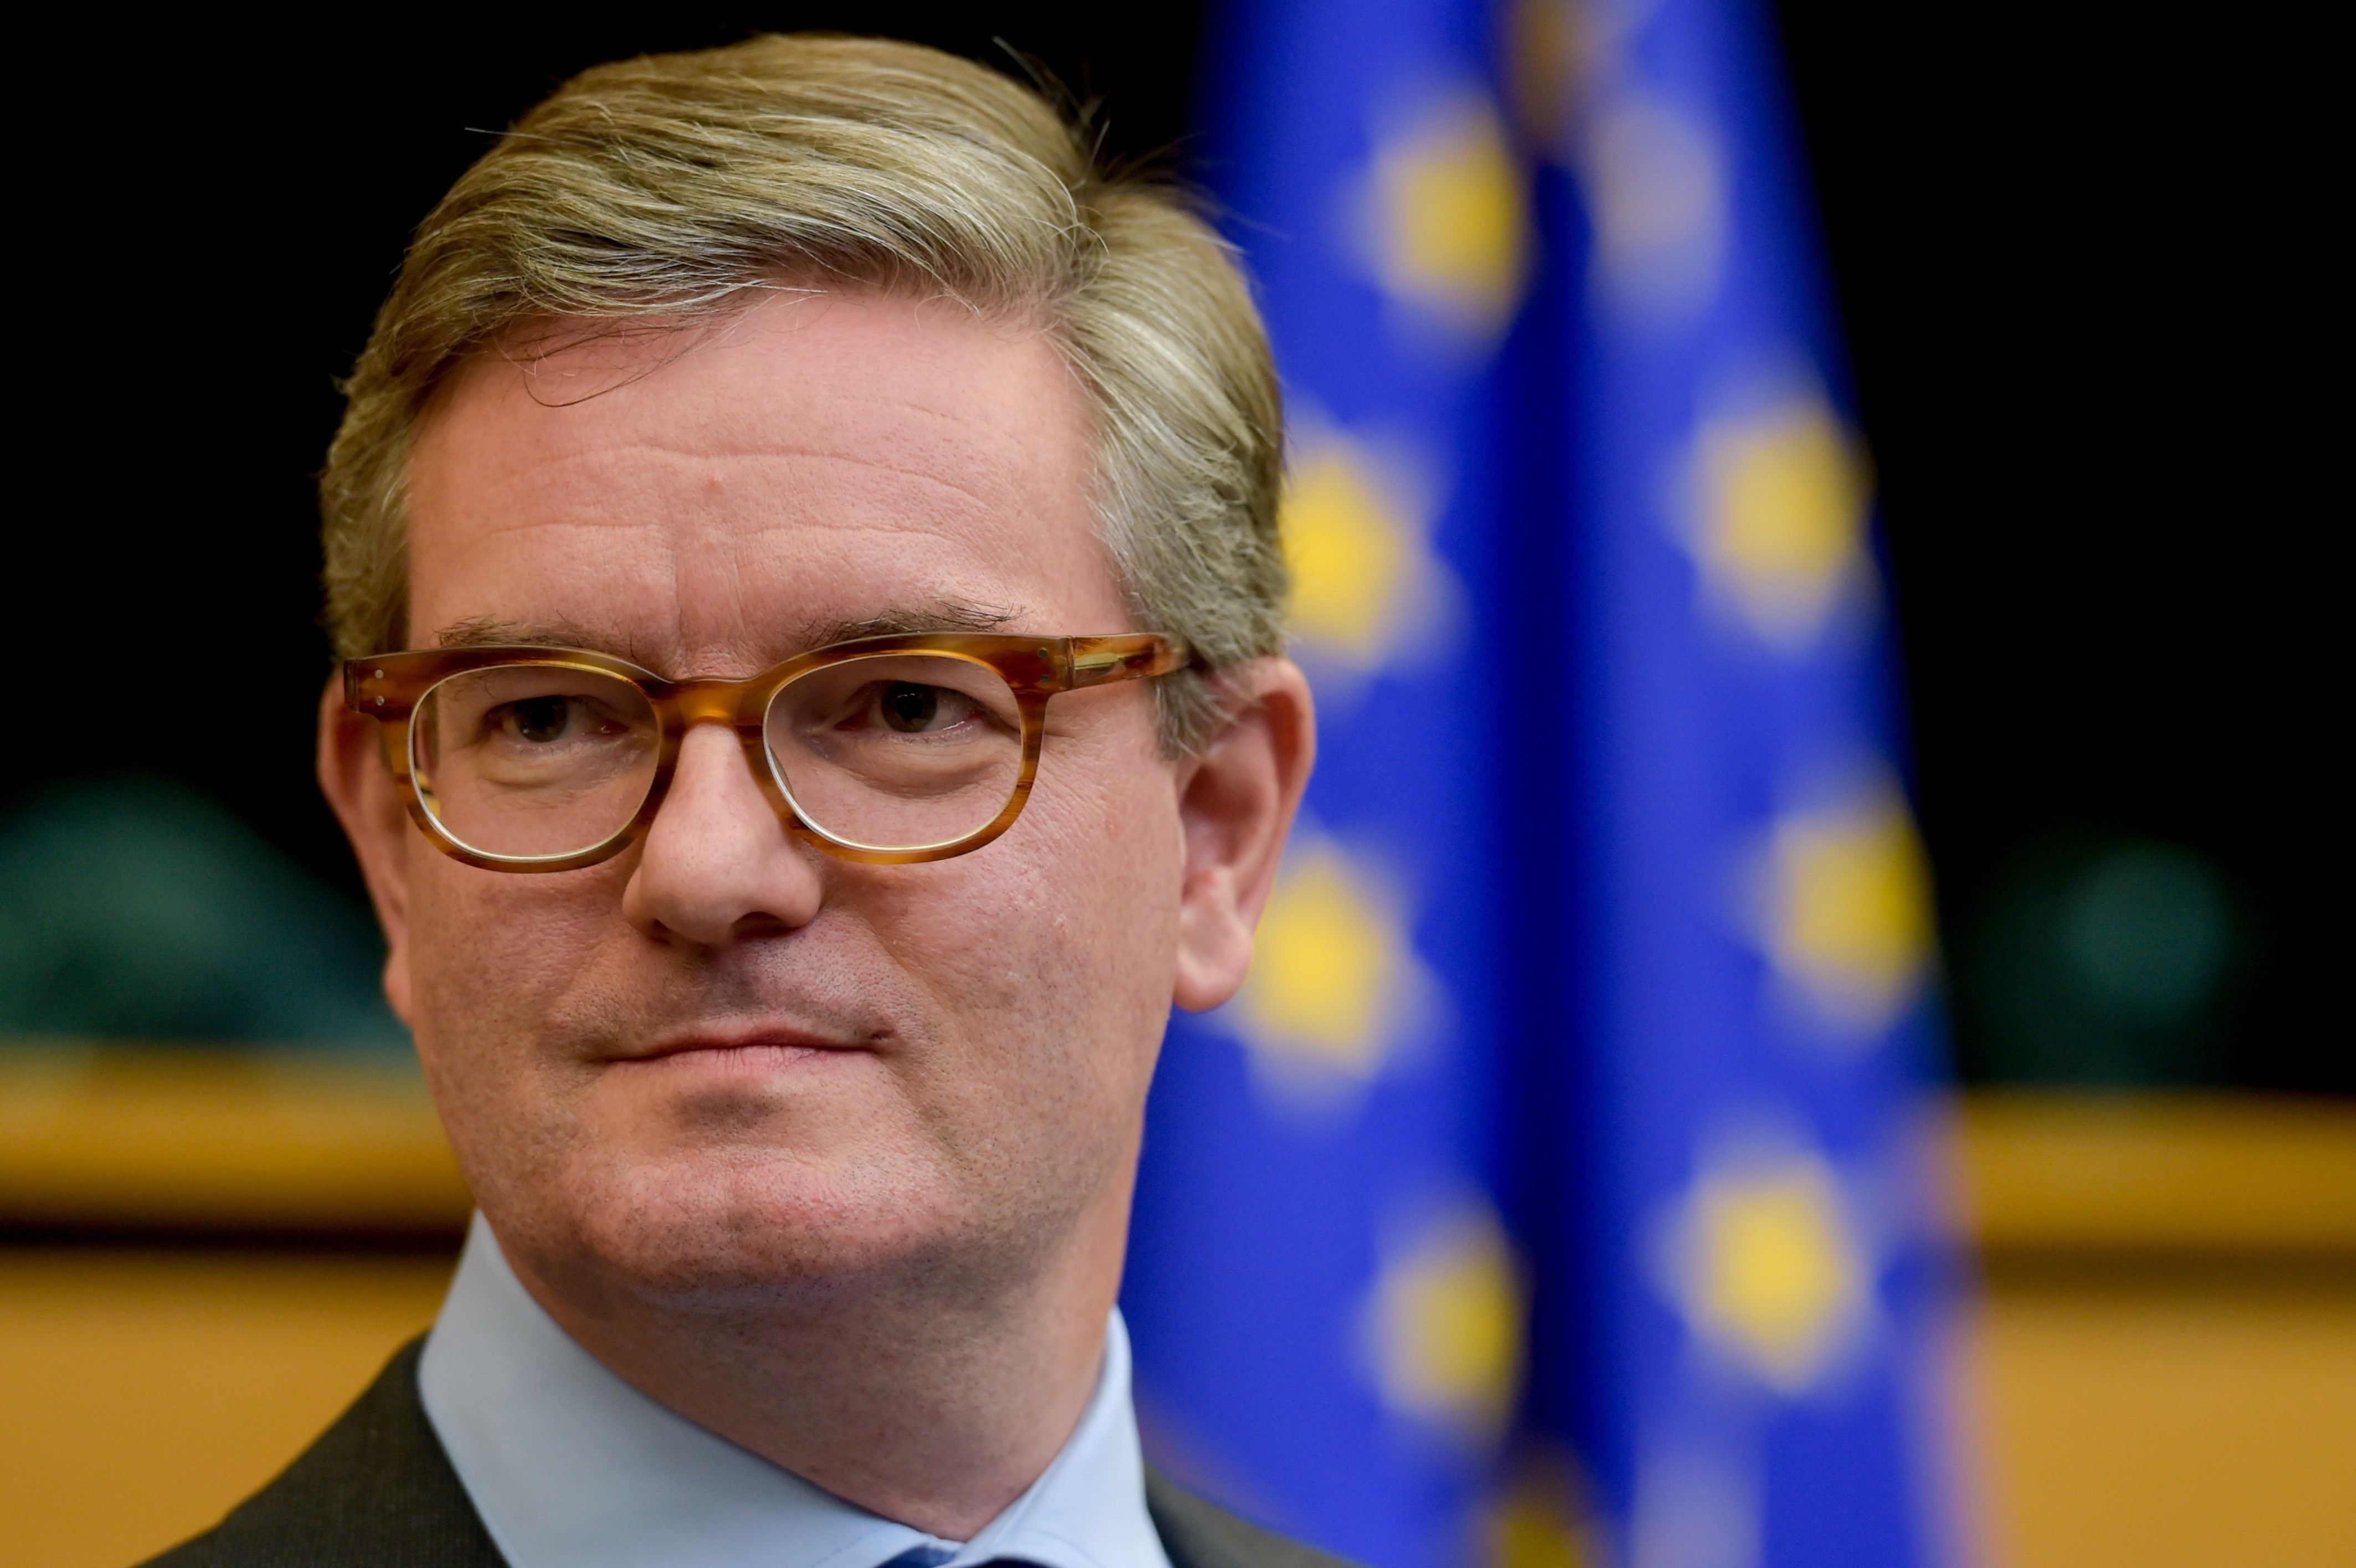face_no_mask: (309, 186, 1229, 1315)
